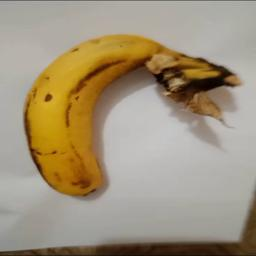Banana Semifresh: (17, 33, 232, 196)
